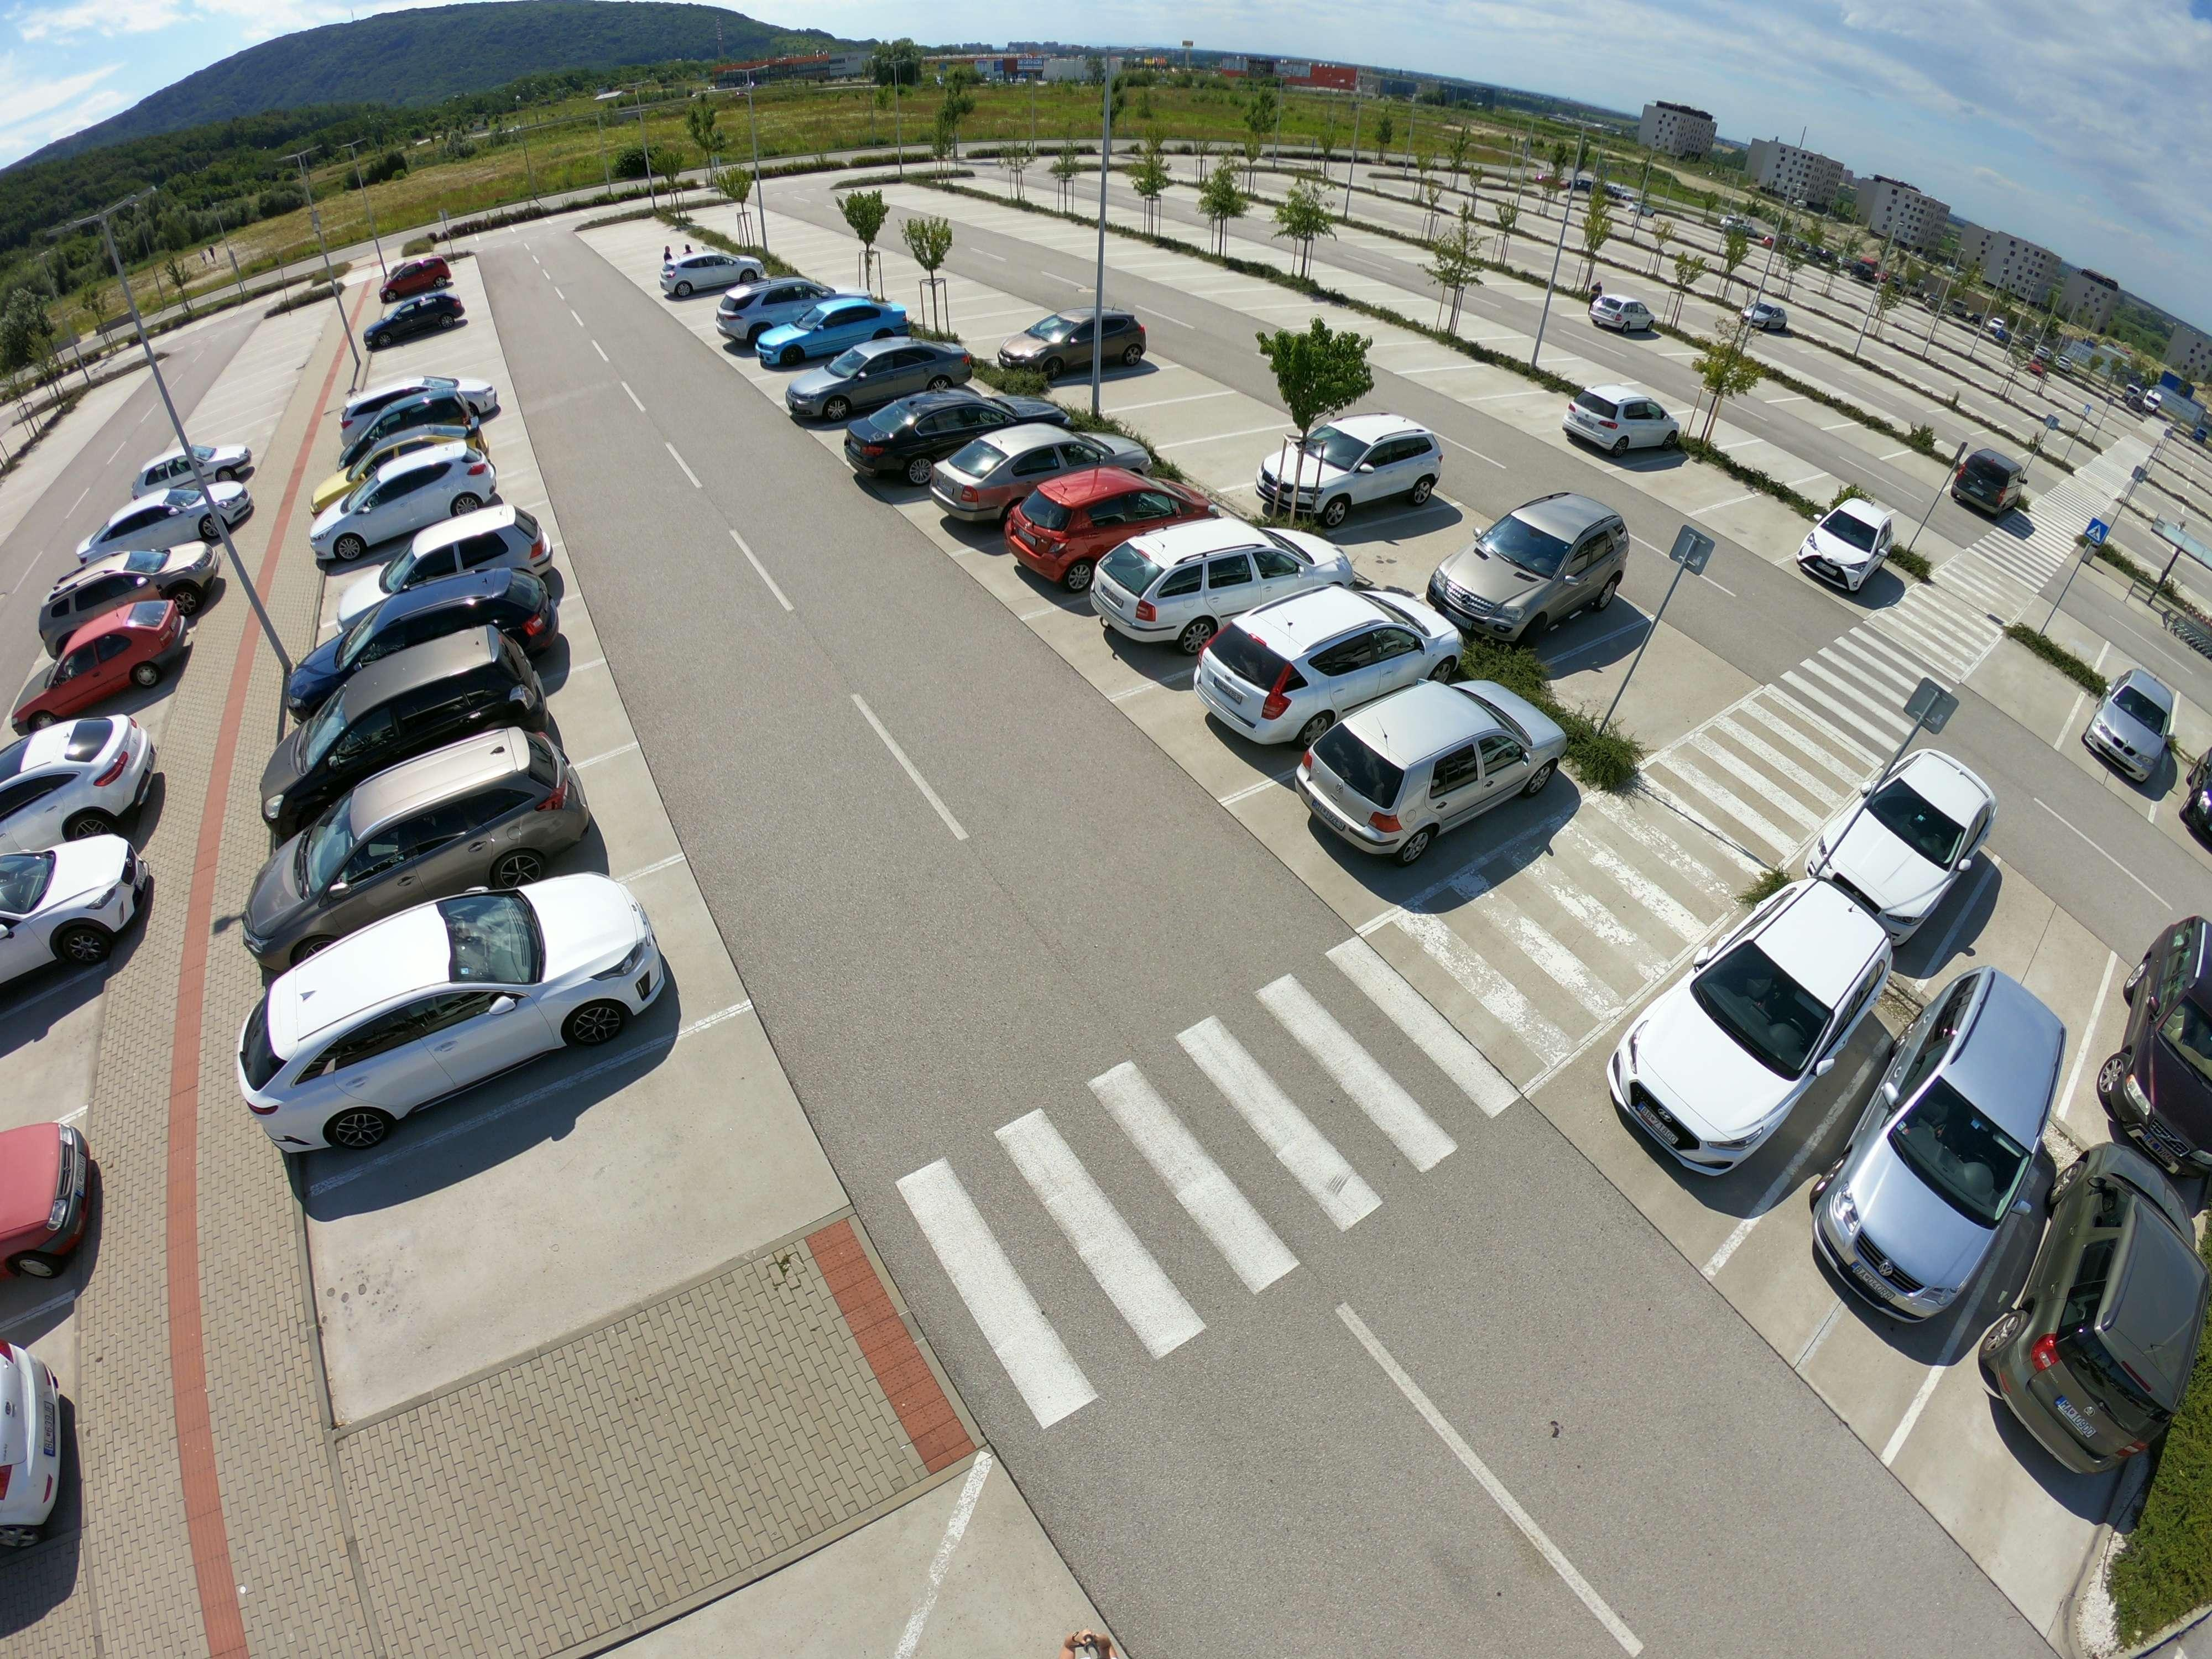empty: (253, 870, 679, 1126), (1829, 945, 2094, 1324), (1616, 856, 1888, 1162), (2010, 1126, 2195, 1450), (287, 734, 589, 915), (1294, 674, 1562, 856), (1188, 586, 1454, 744), (1080, 519, 1339, 648), (294, 653, 554, 781), (1815, 760, 1991, 924), (2104, 908, 2203, 1197), (1439, 498, 1629, 641), (3, 828, 134, 1011), (334, 521, 552, 626), (1007, 464, 1205, 570), (1259, 416, 1449, 521), (5, 1314, 85, 1561), (813, 350, 1007, 448), (928, 420, 1120, 514), (26, 612, 186, 720), (5, 1129, 108, 1293), (327, 458, 524, 544), (0, 720, 145, 828), (44, 544, 218, 633), (334, 422, 503, 509), (848, 385, 1024, 469), (799, 336, 986, 413), (747, 296, 925, 368), (986, 310, 1143, 390), (2076, 676, 2186, 779), (1550, 387, 1693, 465), (1796, 493, 1904, 589), (345, 382, 496, 450), (721, 279, 848, 333), (362, 291, 477, 350), (657, 253, 779, 307), (1951, 453, 2038, 523), (1595, 295, 1658, 338)
occupied: (406, 1114, 709, 1284), (1940, 866, 2135, 1028), (0, 939, 103, 1154), (1357, 472, 1477, 608), (359, 349, 484, 401), (1059, 357, 1143, 418), (1204, 437, 1285, 491), (1134, 396, 1211, 453)
